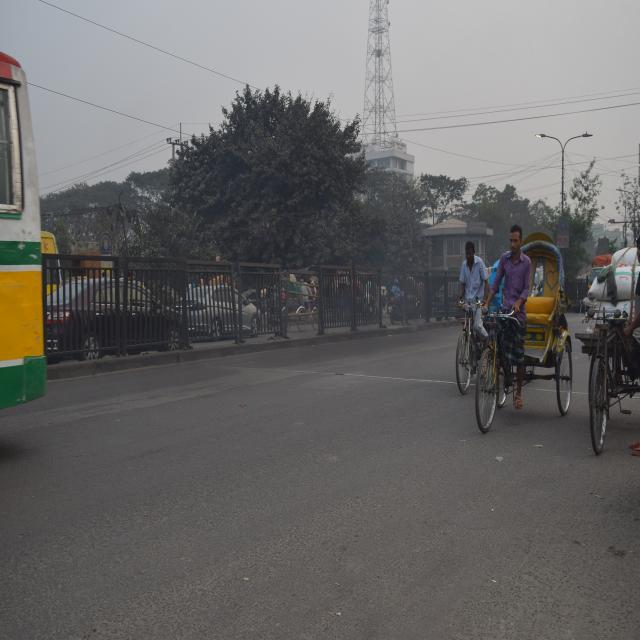car: (45, 274, 186, 366), (177, 276, 268, 343)
